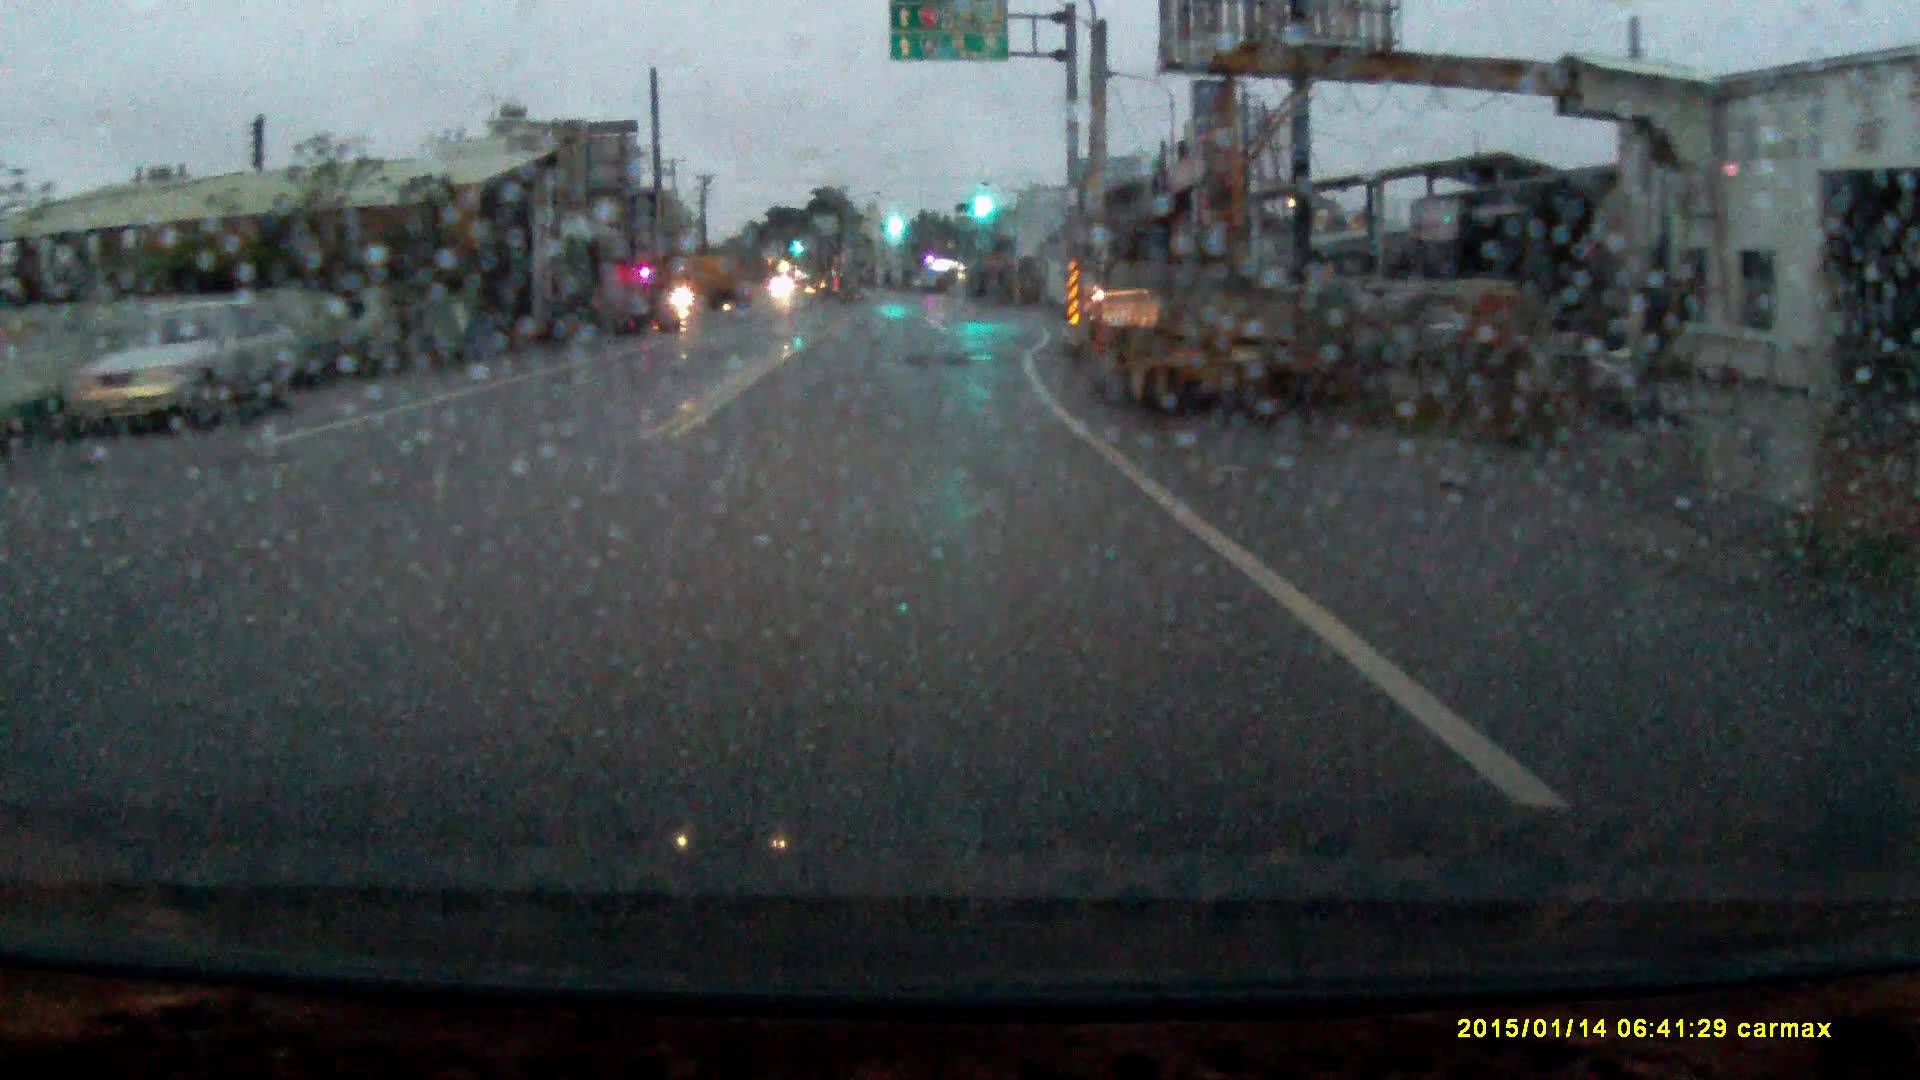vehicle: (1080, 228, 1340, 433), (83, 305, 295, 440), (665, 258, 753, 319)
